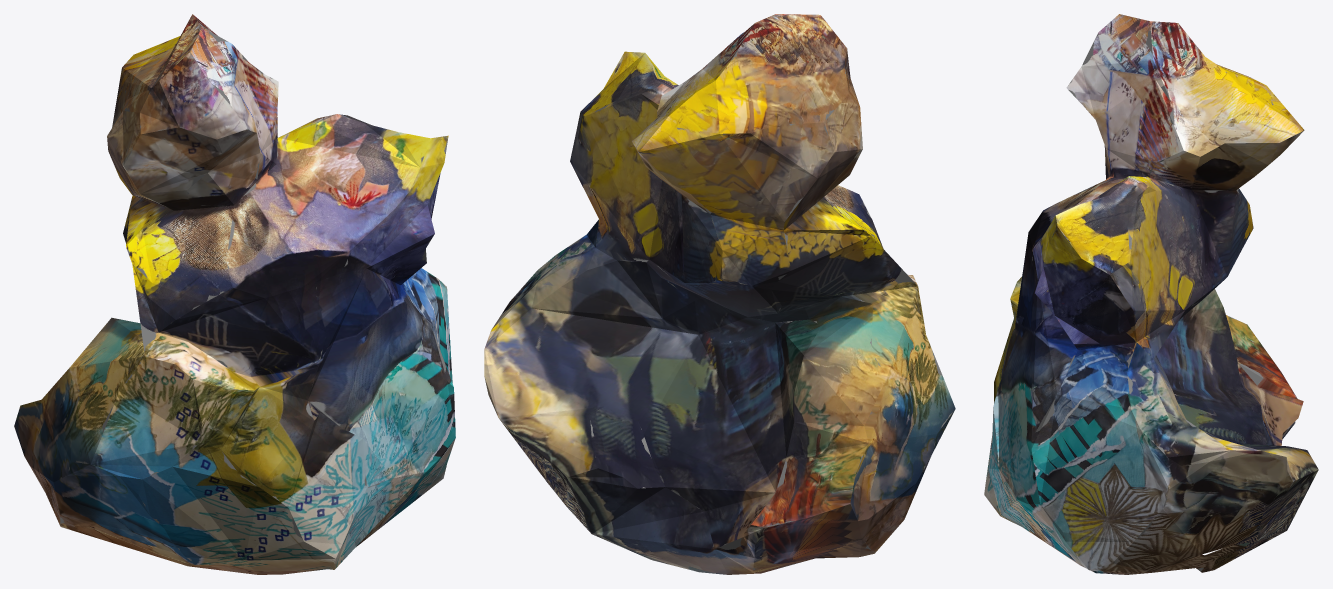
Rendered from blueyellowfloor.obj.
3 renders of one model, left to right at view 1: azimuth 30°, elevation 25°; view 2: azimuth 150°, elevation 25°; view 3: azimuth 270°, elevation 25°, orthographic. The views are drawn at different scales.
Parts seen in each view (by area): view 1: blueyellowfloor3:Mesh blueyellowfloor3:group8 blueyellowfloor3:p; view 2: blueyellowfloor3:Mesh blueyellowfloor3:group8 blueyellowfloor3:p; view 3: blueyellowfloor3:Mesh blueyellowfloor3:group8 blueyellowfloor3:p.
Part boxes in pixels (x1,y1,x2,y2): blueyellowfloor3:Mesh blueyellowfloor3:group8 blueyellowfloor3:p: [14, 14, 455, 574]; blueyellowfloor3:Mesh blueyellowfloor3:group8 blueyellowfloor3:p: [484, 14, 955, 574]; blueyellowfloor3:Mesh blueyellowfloor3:group8 blueyellowfloor3:p: [984, 14, 1318, 574].
Bounding box in the file's own units: 26.79 × 33.95 × 20.66.
Materials: 3 (3 with a texture image).
